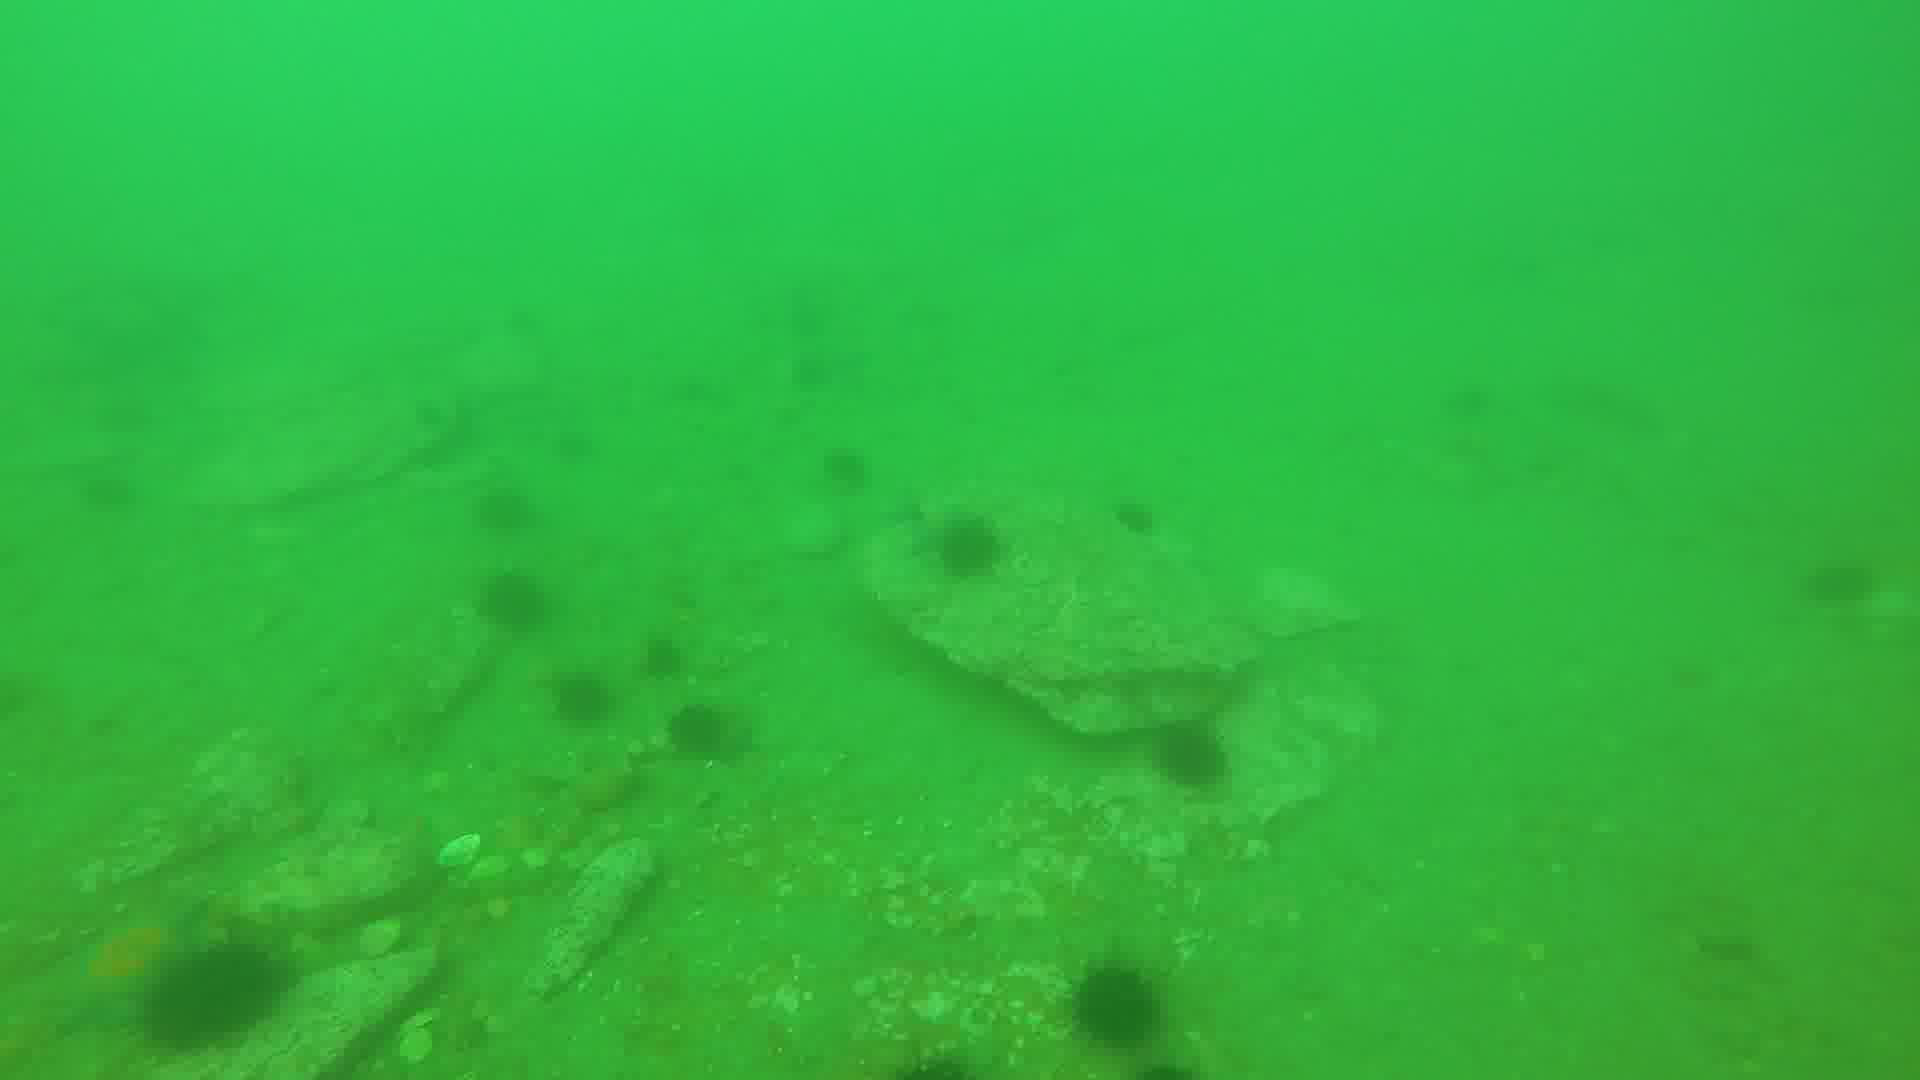echinus: (142, 953, 289, 1044), (1065, 953, 1166, 1051), (471, 568, 556, 642), (1156, 727, 1226, 800), (554, 666, 615, 731), (945, 516, 1007, 574), (675, 702, 731, 758), (475, 485, 543, 527), (1112, 497, 1164, 541), (647, 630, 687, 679), (829, 447, 872, 491)
scallop: (429, 831, 492, 881)
starfish: (53, 897, 212, 1031)
